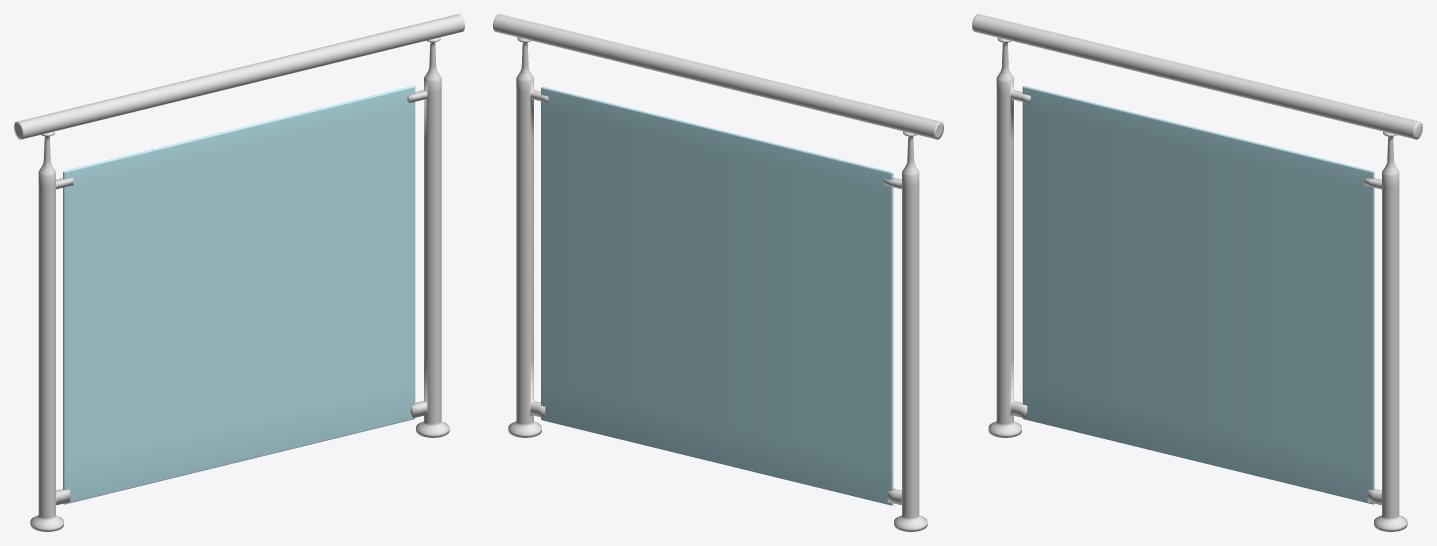
The model's file is barriere_verre_seule.fbx.
The picture shows the model from 3 angles, left to right: view 1: azimuth 30°, elevation 25°; view 2: azimuth 150°, elevation 25°; view 3: azimuth 330°, elevation 25°; orthographic projection.
Parts seen in each view (by area): view 1: barriere_verre; view 2: barriere_verre; view 3: barriere_verre.
Boxes of the visible parts, left/top/right/bottom form: barriere_verre: left=14, top=14, right=464, bottom=531; barriere_verre: left=493, top=14, right=943, bottom=531; barriere_verre: left=972, top=14, right=1422, bottom=531.
Bounding box in the file's own units: 184 × 162 × 12.11.
